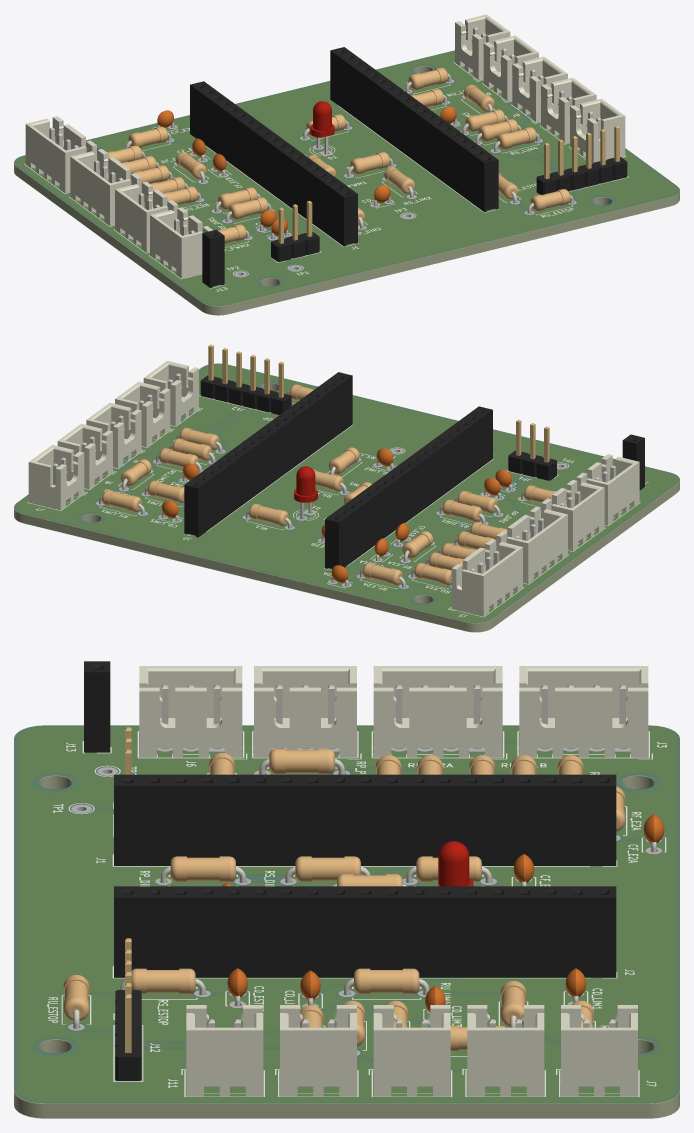
The model's file is board.glb.
3 views of the same model, one above another, from view 1: azimuth 30°, elevation 25°; view 2: azimuth 150°, elevation 25°; view 3: azimuth 270°, elevation 25° (orthographic). The views are drawn at different scales.
Visible parts, largest first — view 1: =>[0:1:1:26], =>[0:1:1:22], =>[0:1:1:7] (×2), =>[0:1:1:9] (×5), =>[0:1:1:21] (×14), =>[0:1:1:28], =>[0:1:1:15] (×2), =>[0:1:1:17] (×2), =>[0:1:1:11], =>[0:1:1:25], =>[0:1:1:19], =>[0:1:1:13] (+3 smaller); view 2: =>[0:1:1:26], =>[0:1:1:22], =>[0:1:1:7] (×2), =>[0:1:1:9] (×5), =>[0:1:1:21] (×15), =>[0:1:1:28], =>[0:1:1:15] (×2), =>[0:1:1:17] (×2), =>[0:1:1:11], =>[0:1:1:25], =>[0:1:1:19], =>[0:1:1:23] (+3 smaller); view 3: =>[0:1:1:26], =>[0:1:1:7] (×2), =>[0:1:1:22], =>[0:1:1:9] (×5), =>[0:1:1:15] (×2), =>[0:1:1:17] (×2), =>[0:1:1:28], =>[0:1:1:21] (×9), =>[0:1:1:25], =>[0:1:1:11], =>[0:1:1:13], =>[0:1:1:23] (+1 smaller).
Part boxes in pixels (x1,y1,x2,y2): =>[0:1:1:26]: (14,50,679,306); =>[0:1:1:22]: (16,52,677,304); =>[0:1:1:7] (×2): (190,47,498,246); =>[0:1:1:9] (×5): (455,14,625,163); =>[0:1:1:21] (×14): (125,67,573,222); =>[0:1:1:28]: (14,65,679,315); =>[0:1:1:15] (×2): (25,116,141,225); =>[0:1:1:17] (×2): (115,181,212,278); =>[0:1:1:11]: (536,125,627,194); =>[0:1:1:25]: (24,62,628,291); =>[0:1:1:19]: (271,201,319,261); =>[0:1:1:13]: (202,229,224,287); =>[0:1:1:26]: (14,363,679,623); =>[0:1:1:22]: (16,365,677,621); =>[0:1:1:7] (×2): (184,372,492,568); =>[0:1:1:9] (×5): (28,360,198,510); =>[0:1:1:21] (×15): (99,427,500,587); =>[0:1:1:28]: (14,367,679,632); =>[0:1:1:15] (×2): (451,506,567,616); =>[0:1:1:17] (×2): (541,454,639,550); =>[0:1:1:11]: (200,344,291,414); =>[0:1:1:25]: (27,394,648,617); =>[0:1:1:19]: (508,419,556,480); =>[0:1:1:23]: (96,399,567,588); =>[0:1:1:26]: (14,725,679,1103); =>[0:1:1:7] (×2): (114,774,616,977); =>[0:1:1:22]: (18,727,675,1101); =>[0:1:1:9] (×5): (186,1005,637,1096); =>[0:1:1:15] (×2): (373,666,648,757); =>[0:1:1:17] (×2): (139,666,356,757); =>[0:1:1:28]: (14,726,679,1118); =>[0:1:1:21] (×9): (63,748,526,1028); =>[0:1:1:25]: (47,731,666,1096); =>[0:1:1:11]: (115,938,141,1080); =>[0:1:1:13]: (84,661,110,752); =>[0:1:1:23]: (68,748,662,1055).
Size of the model in its own units: 0.086 by 0.0119 by 0.064.
